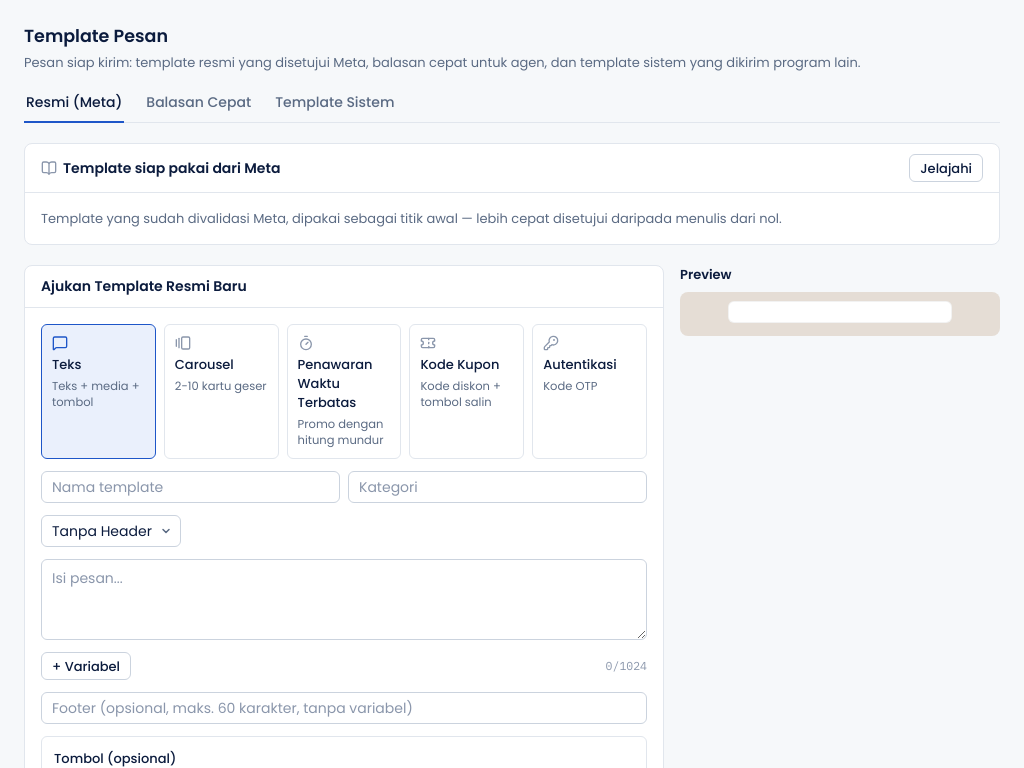
Test case: TemplatesPage — carousel builder › shows the card builder only when format is switched to CAROUSEL
Expected: the element named "Format template" is shown, [41,324,647,459]
Expected: the text "Kartu Carousel" is not shown
Click the text "Carousel" at (204, 364), box [175,355,234,374]
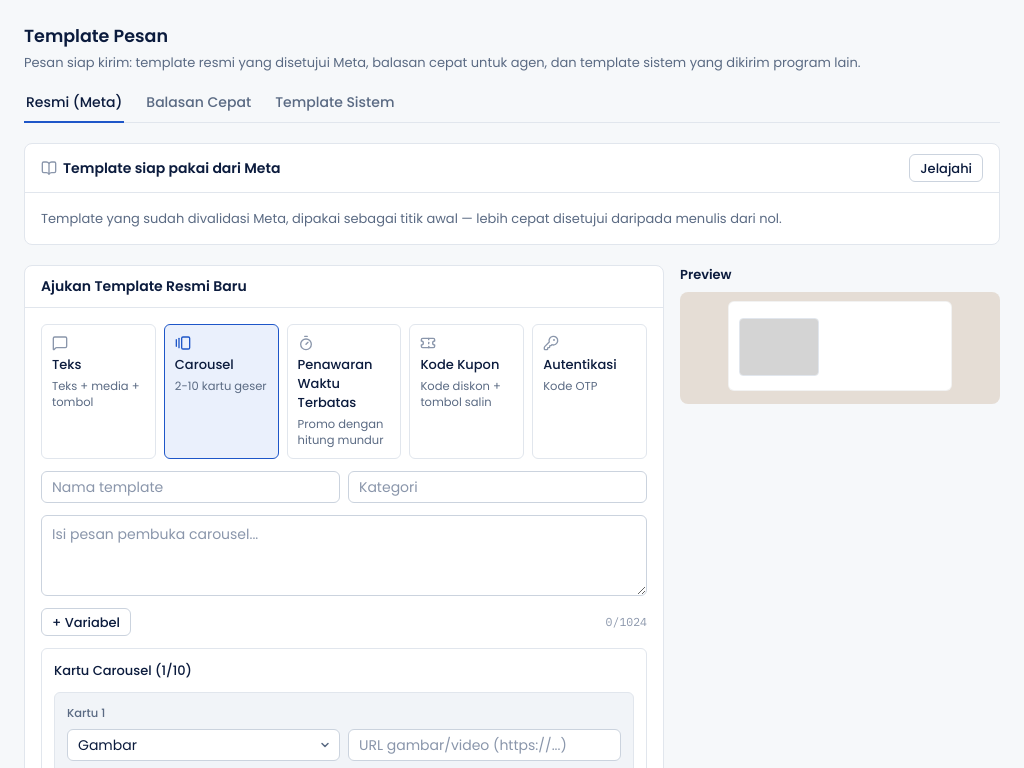
Expected: the heading "Kartu Carousel (1/10)" is shown, [54,661,192,680]
Expected: the field named "URL media kartu 1" is shown, [348,729,621,761]
